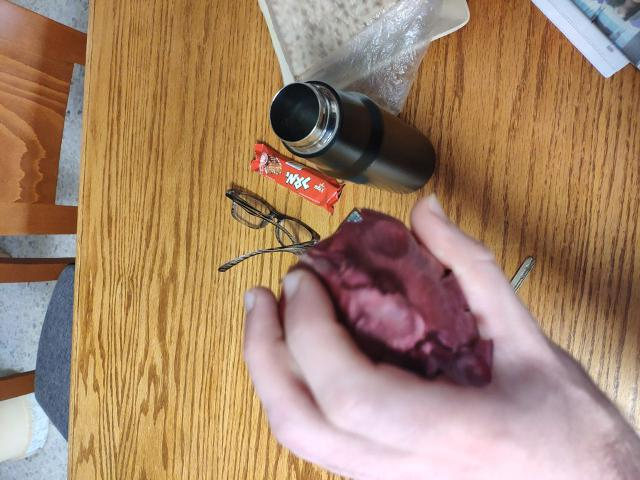onion: (276, 225, 474, 393)
